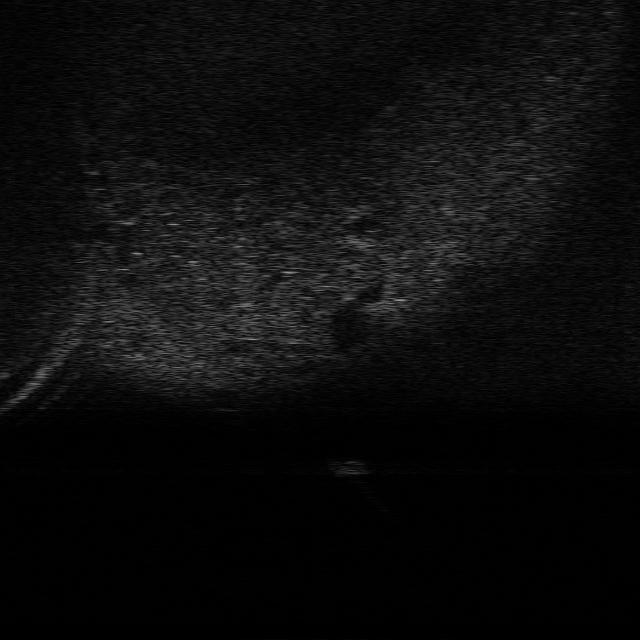cube: (325, 458, 373, 480)
